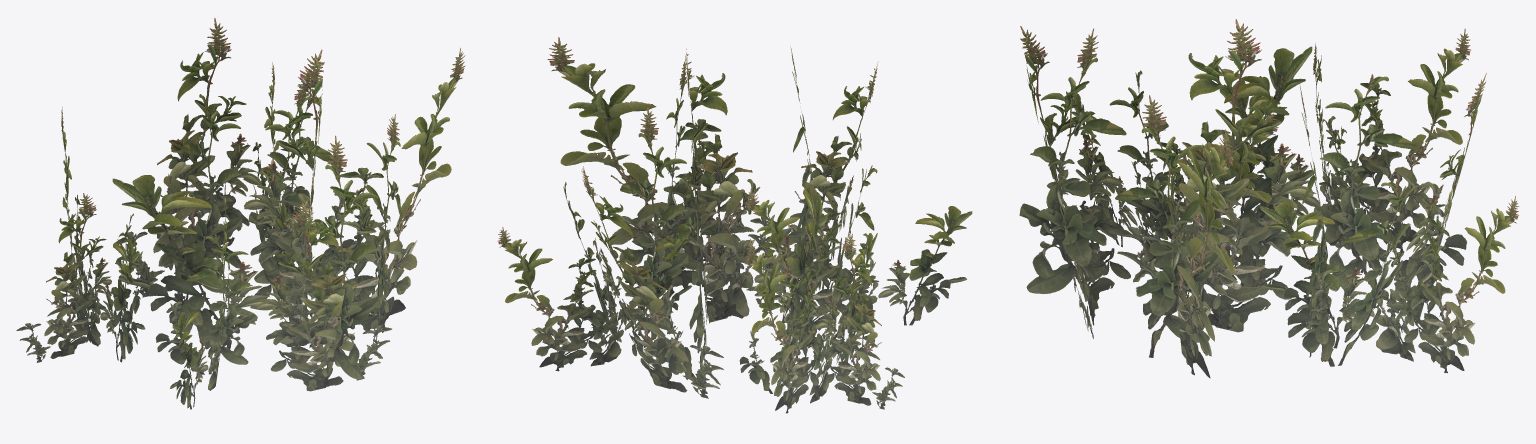
File: proc_leafyplant_01.FBX
3 renders of one model, left to right at view 1: azimuth 30°, elevation 25°; view 2: azimuth 150°, elevation 25°; view 3: azimuth 270°, elevation 25°, orthographic. The views are drawn at different scales.
Visible parts, largest first — view 1: proc_leafyplant_01; view 2: proc_leafyplant_01; view 3: proc_leafyplant_01.
Boxes of the visible parts, x1,y1,x2,y2 form: proc_leafyplant_01: [16, 18, 465, 409]; proc_leafyplant_01: [497, 37, 972, 413]; proc_leafyplant_01: [1019, 19, 1519, 378].
Size of the model in its own units: 2.68 by 2.48 by 1.79.
Materials: 1 (1 with a texture image).
